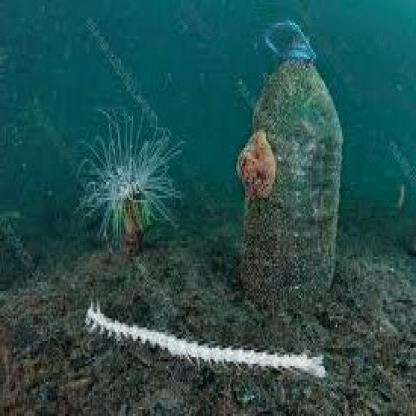pbottle: (237, 13, 345, 304)
